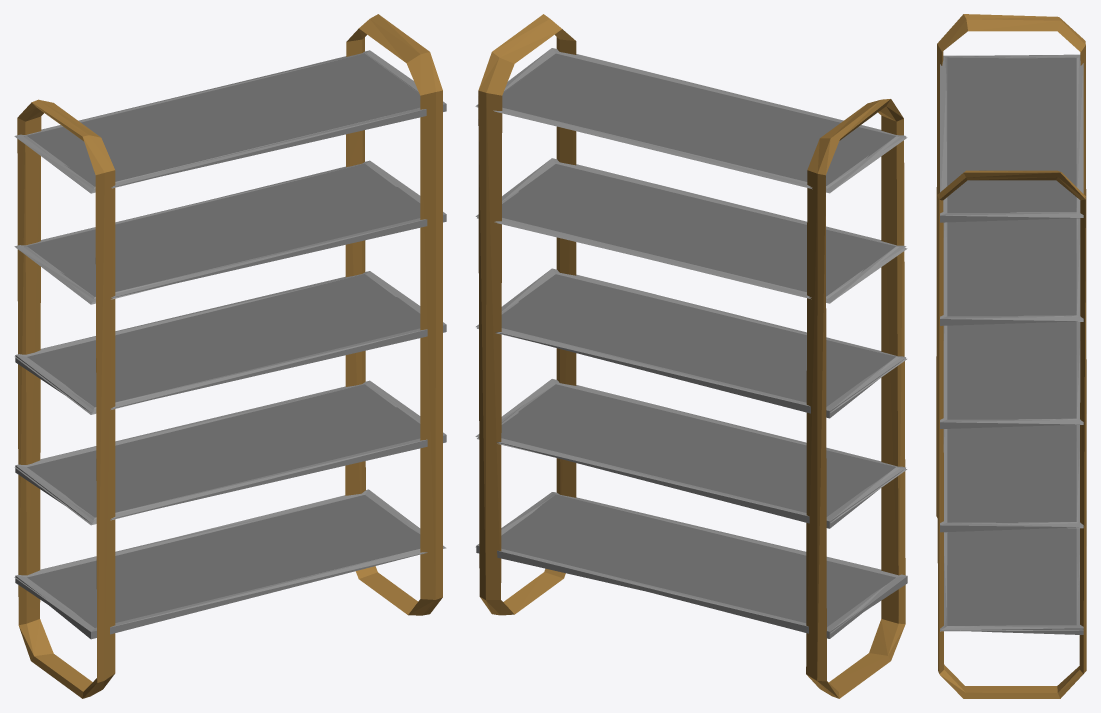
Rendered from kit_shelf_tall.glb.
3 renders of one model, left to right at view 1: azimuth 30°, elevation 25°; view 2: azimuth 150°, elevation 25°; view 3: azimuth 270°, elevation 25°, orthographic. The views are drawn at different scales.
Parts seen in each view (by area): view 1: kit_shelf_tall; view 2: kit_shelf_tall; view 3: kit_shelf_tall.
Boxes of the visible parts, left/top/right/bottom form: kit_shelf_tall: left=14, top=14, right=446, bottom=698; kit_shelf_tall: left=475, top=14, right=907, bottom=698; kit_shelf_tall: left=936, top=14, right=1086, bottom=698.
Size of the model in its own units: 2.06 by 3.11 by 0.8058.
